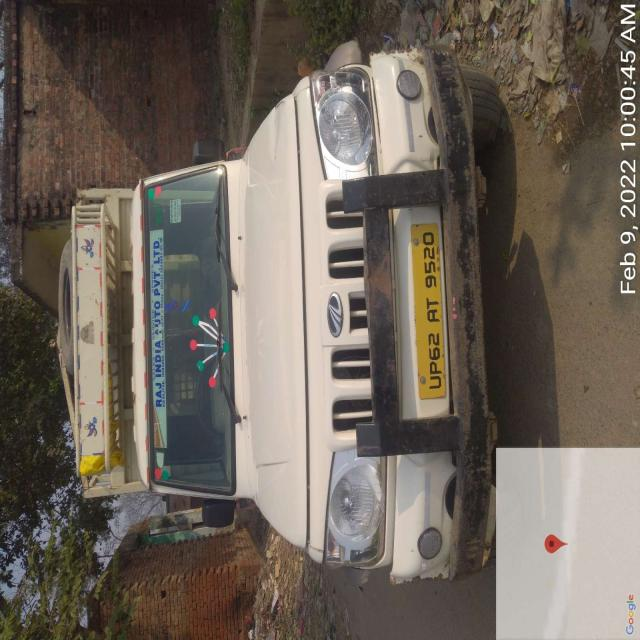light_vehicle: (63, 48, 488, 564)
